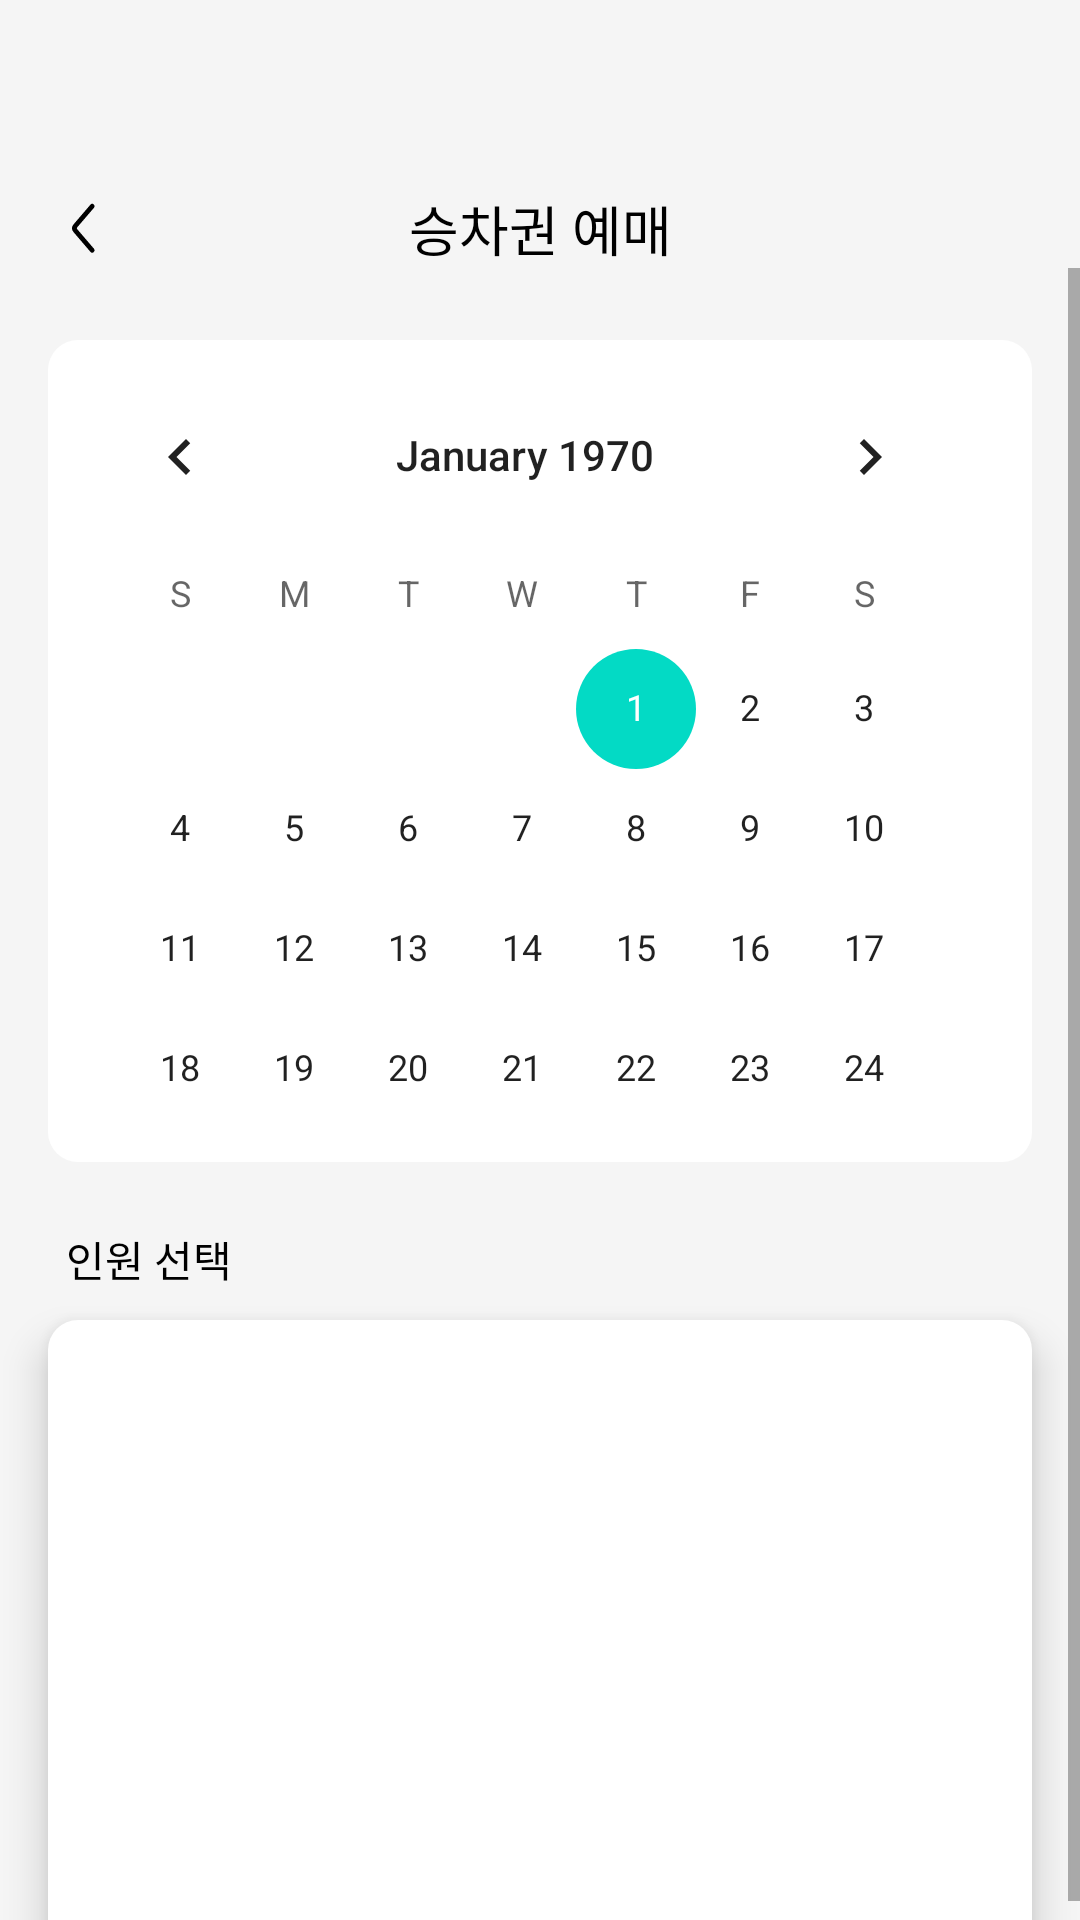

Screen size 1080 × 1920. Icon name, then its box in pixels as (x1, y1, x2, y2):
back: (72, 203, 95, 253)
